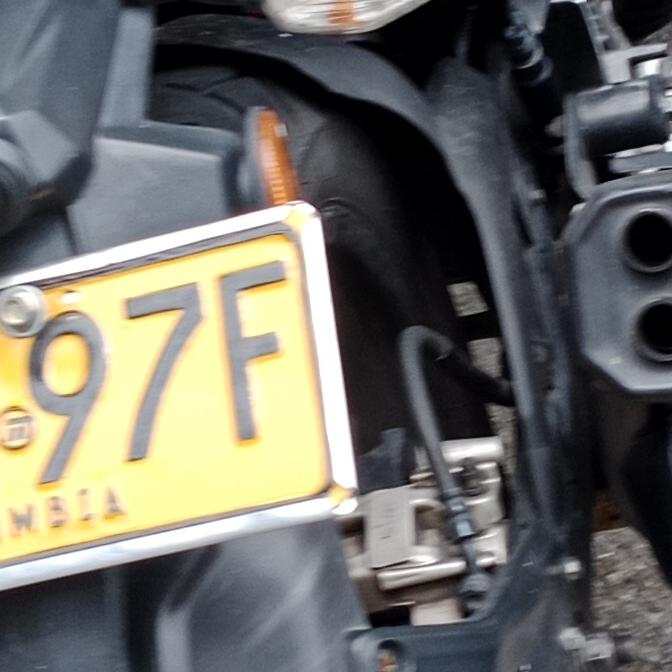plates: (0, 204, 360, 583)
